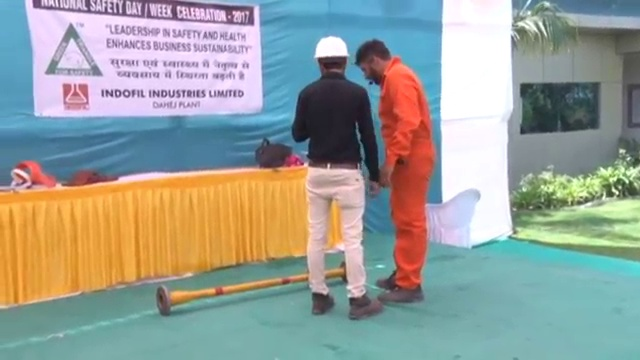helmet: (314, 35, 351, 61)
helmet_off: (356, 38, 392, 88)
helmet_on: (311, 34, 353, 80)
person: (291, 34, 381, 318), (355, 36, 436, 305)
